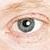eye: (18, 19, 34, 31)
